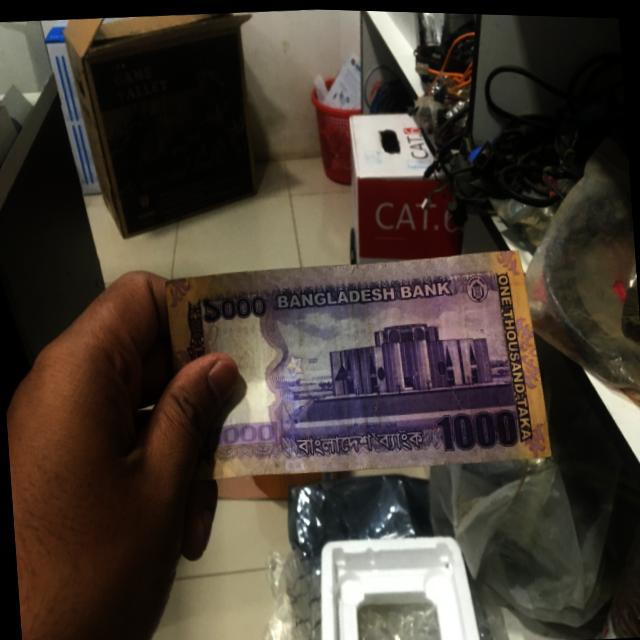Taka: (164, 246, 552, 489)
